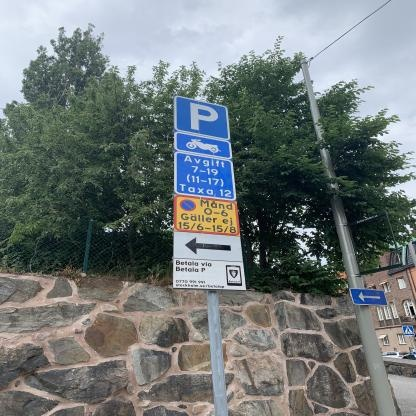P-skylt: (172, 95, 234, 142)
